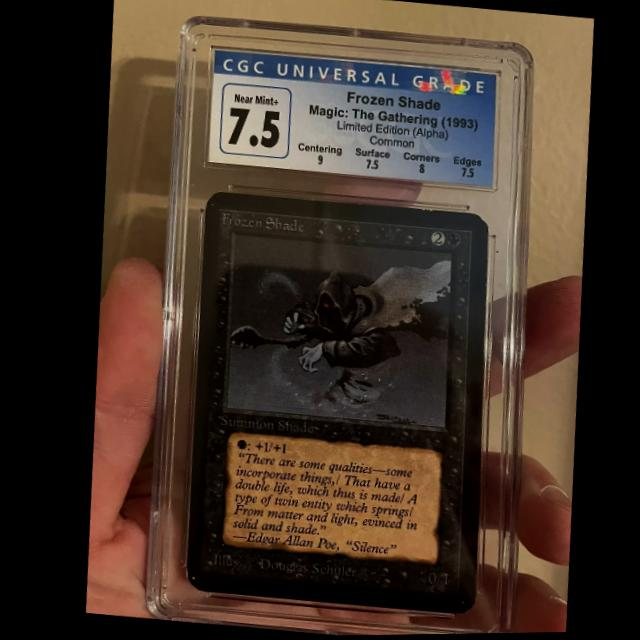card: (177, 190, 486, 616)
cgc_label_old: (204, 48, 495, 189)
cgc_slab: (136, 14, 534, 636)
